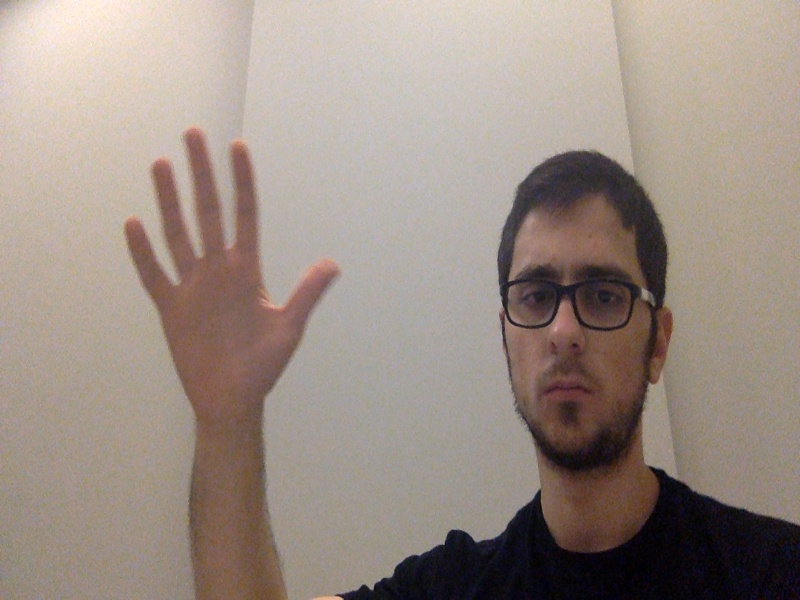5-hand: (124, 126, 341, 415)
